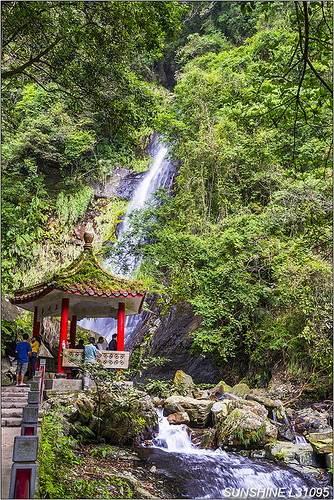wufengciWaterfall: (105, 120, 186, 314)
